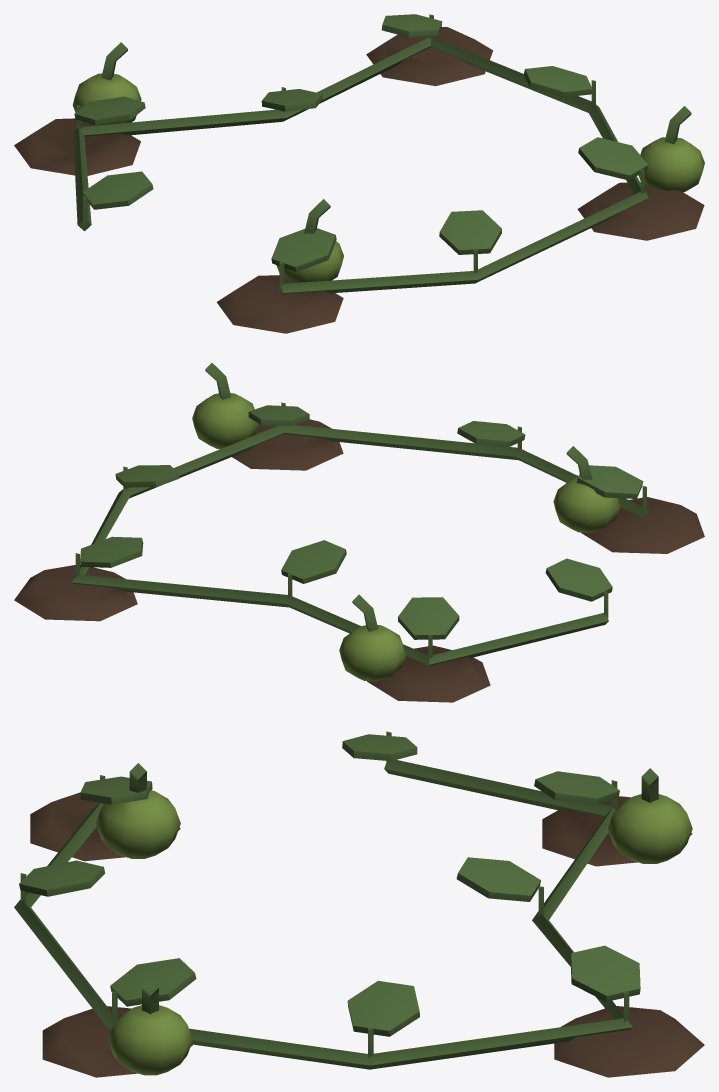
The model's file is crop_pumpkin_s2.glb.
The picture shows the model from 3 angles, top to bottom: view 1: azimuth 30°, elevation 25°; view 2: azimuth 150°, elevation 25°; view 3: azimuth 270°, elevation 25°; orthographic projection. The views are drawn at different scales.
Visible parts, largest first — view 1: crop_pumpkin_s2; view 2: crop_pumpkin_s2; view 3: crop_pumpkin_s2.
Boxes of the visible parts, bbox=[...] form: crop_pumpkin_s2: bbox=[14, 14, 704, 333]; crop_pumpkin_s2: bbox=[14, 363, 704, 702]; crop_pumpkin_s2: bbox=[14, 731, 704, 1077].
Bounding box in the file's own units: 1.2 × 0.1808 × 1.13.
